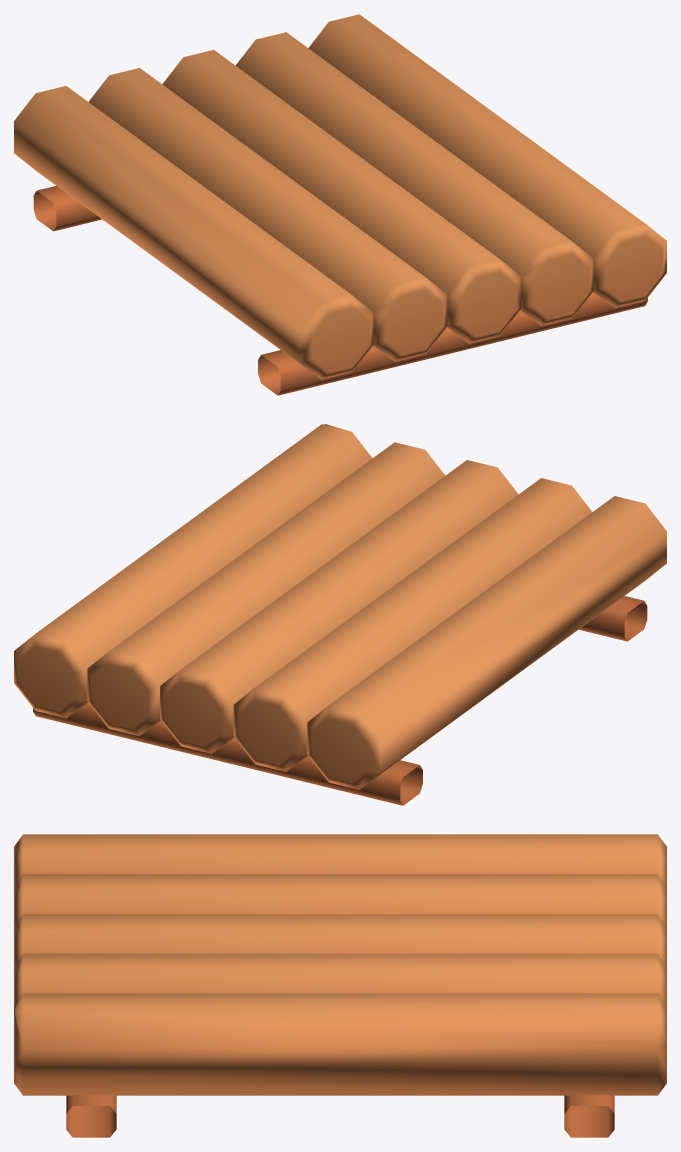
Rendered from bridgeTile.glb.
The picture shows the model from 3 angles, top to bottom: view 1: azimuth 30°, elevation 25°; view 2: azimuth 150°, elevation 25°; view 3: azimuth 270°, elevation 25°; orthographic projection. The views are drawn at different scales.
Parts seen in each view (by area): view 1: bridgeTile; view 2: bridgeTile; view 3: bridgeTile.
Part boxes in pixels (box(x1,y1,x2,y2)): bridgeTile: box(14, 14, 666, 395); bridgeTile: box(14, 424, 666, 805); bridgeTile: box(14, 834, 666, 1137).
Size of the model in its own units: 1 by 0.2715 by 1.39.
Materials: 1 (1 with a texture image).
